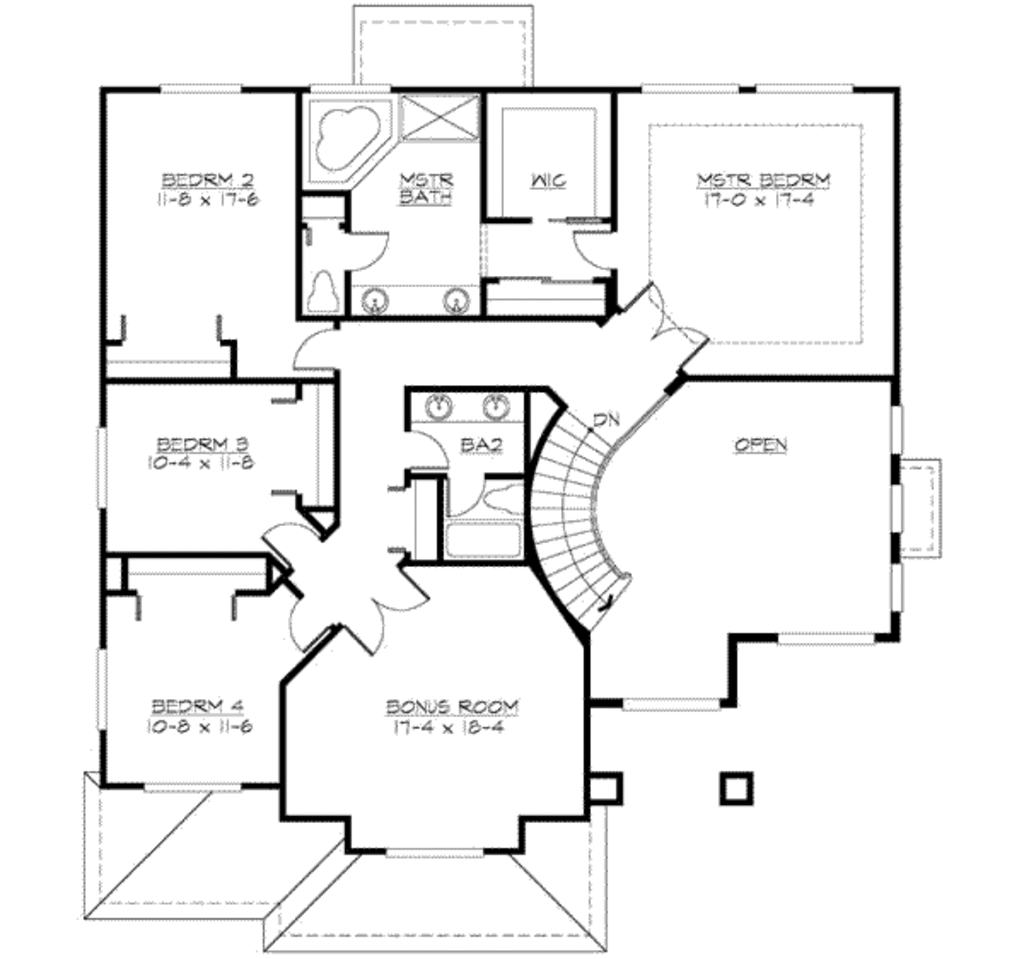door: (333, 563, 434, 675), (618, 281, 719, 369), (281, 324, 366, 371), (261, 517, 327, 571), (572, 227, 637, 278), (270, 599, 327, 654), (340, 223, 394, 275), (400, 423, 449, 469), (446, 477, 489, 517)
large_sink: (292, 260, 342, 312), (482, 483, 522, 512)
small_sink: (346, 278, 482, 318), (406, 387, 536, 427)
stairs: (531, 393, 661, 647)
tub: (437, 524, 536, 563)
window: (88, 641, 116, 732), (92, 426, 116, 512), (155, 81, 251, 102), (775, 629, 886, 645), (754, 84, 852, 97), (639, 84, 733, 96), (615, 702, 724, 712)
